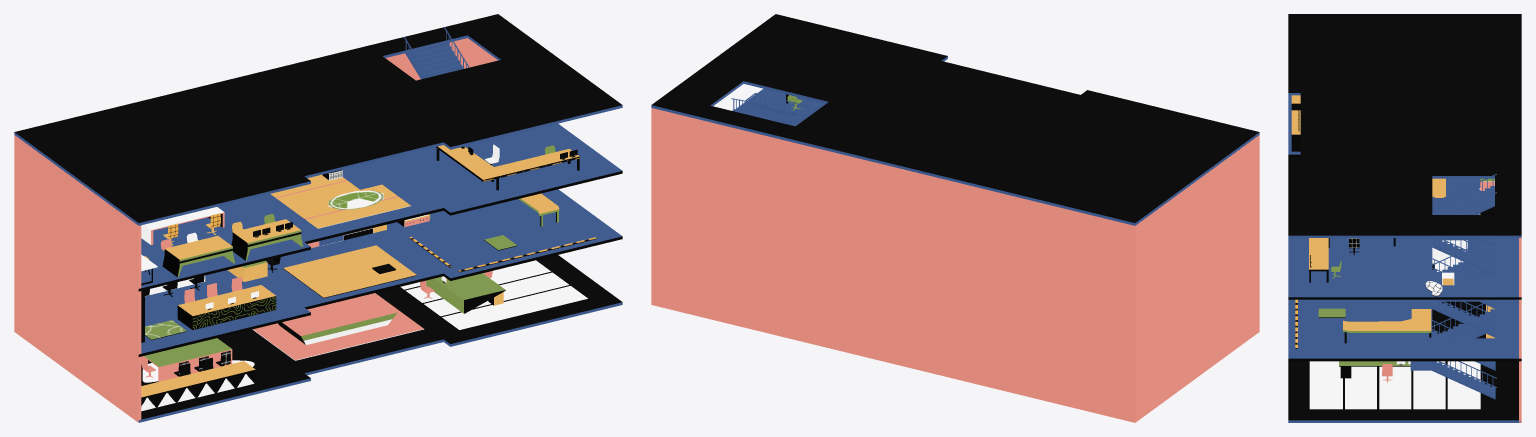
File: 右学校.fbx
3 views of the same model, side by side, from view 1: azimuth 30°, elevation 25°; view 2: azimuth 150°, elevation 25°; view 3: azimuth 270°, elevation 25° (orthographic). The views are drawn at different scales.
Visible parts, largest first — view 1: 右学校, 地板02_1_2, 地板02_2, 地板02_5_2, 倒梯形桌子, 立方体_5_4, 地板02_2_2, 立方体_4_3, 地板02_5, 桌子01, 立方体_1_5, stairs2_2 (+5 smaller); view 2: 右学校, stairs2_2; view 3: 右学校, 地板02_1_2, stairs2_2, stairs2_1, stairs2, 地板02_6, 地板02_5, 立方体_6, 立方体_1_3, 桌子01, 地板02, 地板02_5_2.
Part boxes in pixels (x1,y1,x2,y2): 右学校: (14,14,622,422); 地板02_1_2: (400,260,587,330); 地板02_2: (283,245,416,298); 地板02_5_2: (270,174,410,228); 倒梯形桌子: (278,294,397,344); 立方体_5_4: (141,361,255,411); 地板02_2_2: (252,293,423,360); 立方体_4_3: (177,285,276,329); 地板02_5: (436,145,579,190); 桌子01: (426,273,505,313); 立方体_1_5: (141,338,232,381); stairs2_2: (403,27,469,79); 右学校: (651,14,1259,422); stairs2_2: (731,93,819,126); 右学校: (1288,14,1521,422); 地板02_1_2: (1309,361,1480,409); stairs2_2: (1410,174,1496,275); stairs2_1: (1410,299,1496,399); stairs2: (1410,238,1496,337); 地板02_6: (1343,309,1431,343); 地板02_5: (1309,238,1395,282); 立方体_6: (1432,240,1467,271); 立方体_1_3: (1291,110,1300,151); 桌子01: (1339,361,1410,366); 地板02: (1318,308,1345,317); 地板02_5_2: (1432,178,1445,197).
Bounding box in the file's own units: 2703 × 1138 × 1204.
